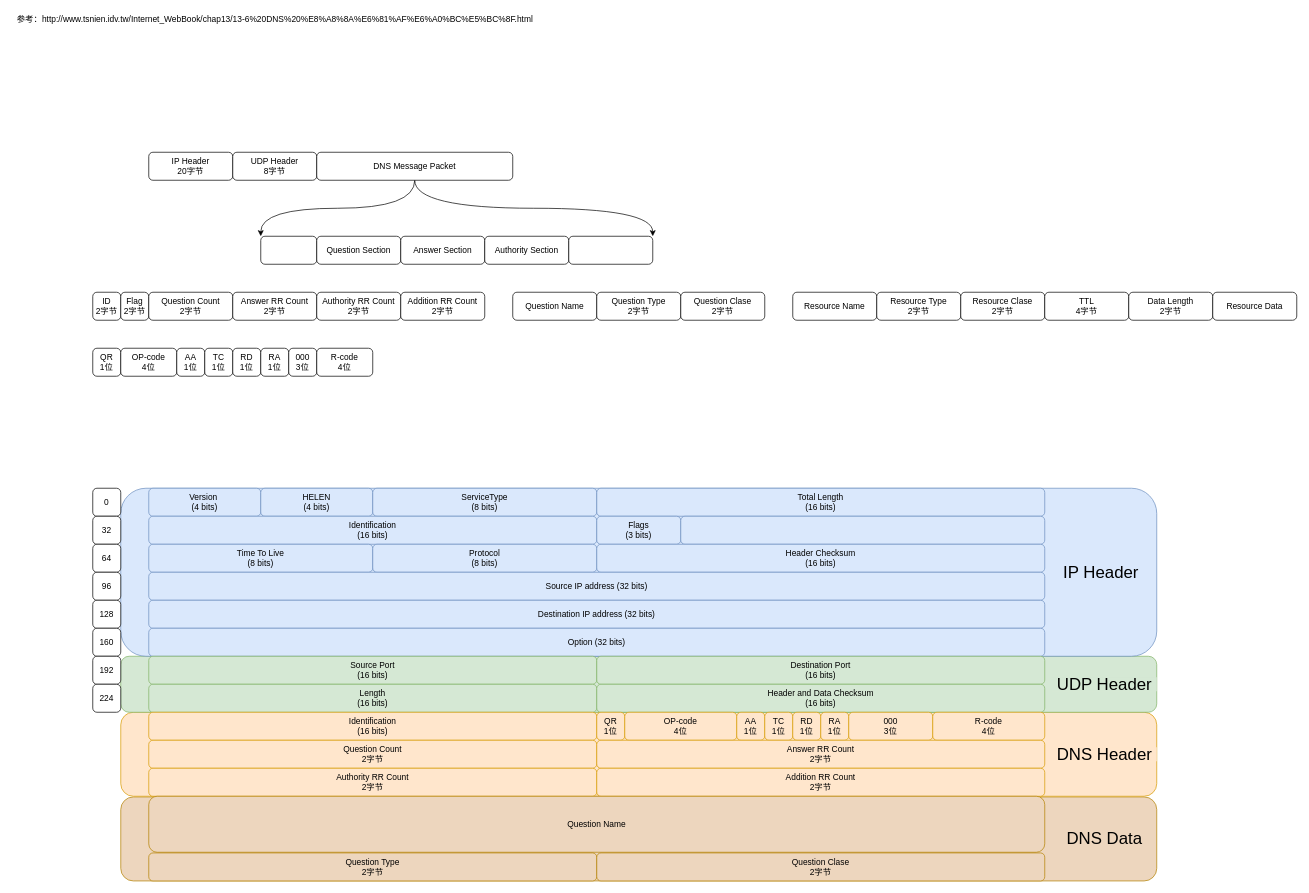
Some shapes in this 1309 by 893 pixel diagram are drawn without their labels. The box of each missing label's shape, as (x1, y1, x2, y2) in pixels:
Addition Section: (568, 236, 653, 264)
DNS Header 12字节: (260, 236, 317, 264)
FragmentationOffset (13 bits): (680, 516, 1045, 544)
